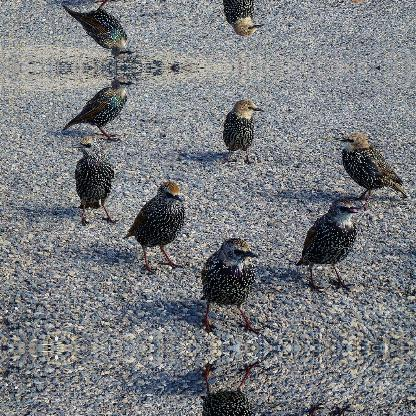Bird: (289, 194, 366, 294), (121, 175, 187, 282), (197, 233, 263, 337), (329, 129, 411, 211), (67, 128, 122, 228), (60, 75, 134, 142), (60, 0, 135, 60), (197, 358, 264, 415), (221, 93, 263, 168), (221, 0, 264, 41)
